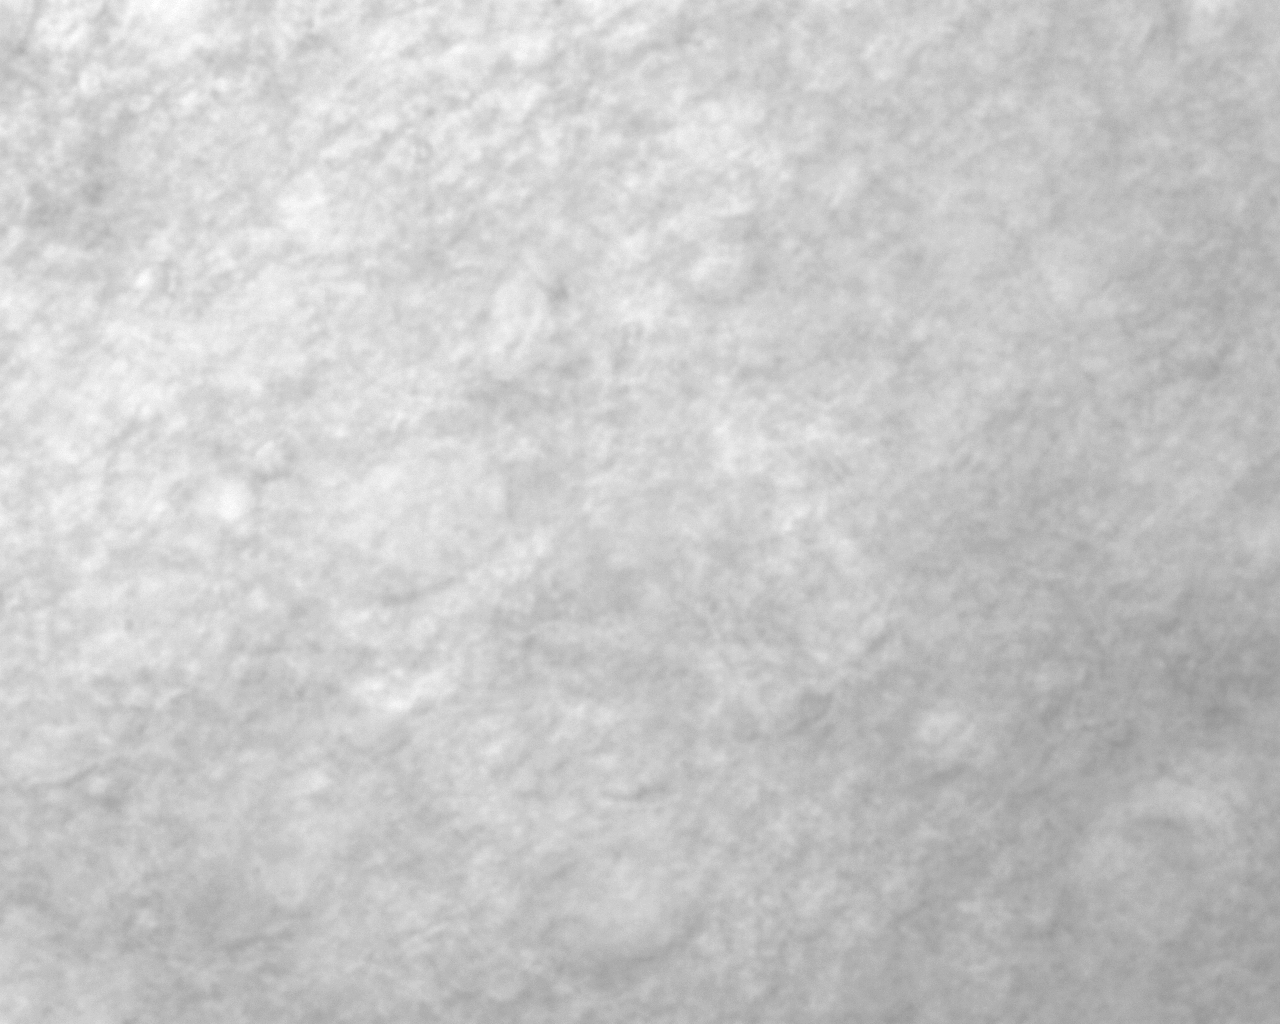neuron: (287, 424, 539, 633), (504, 811, 738, 1008), (463, 261, 571, 394)
